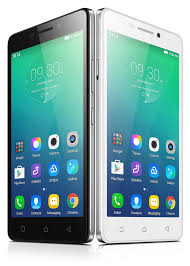lenovo: (6, 5, 96, 243), (92, 7, 182, 245)
